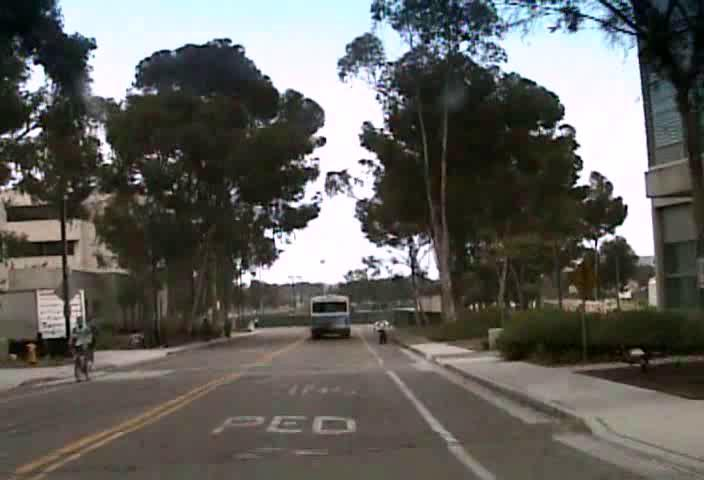pedestrianCrossing: (567, 252, 600, 300)
